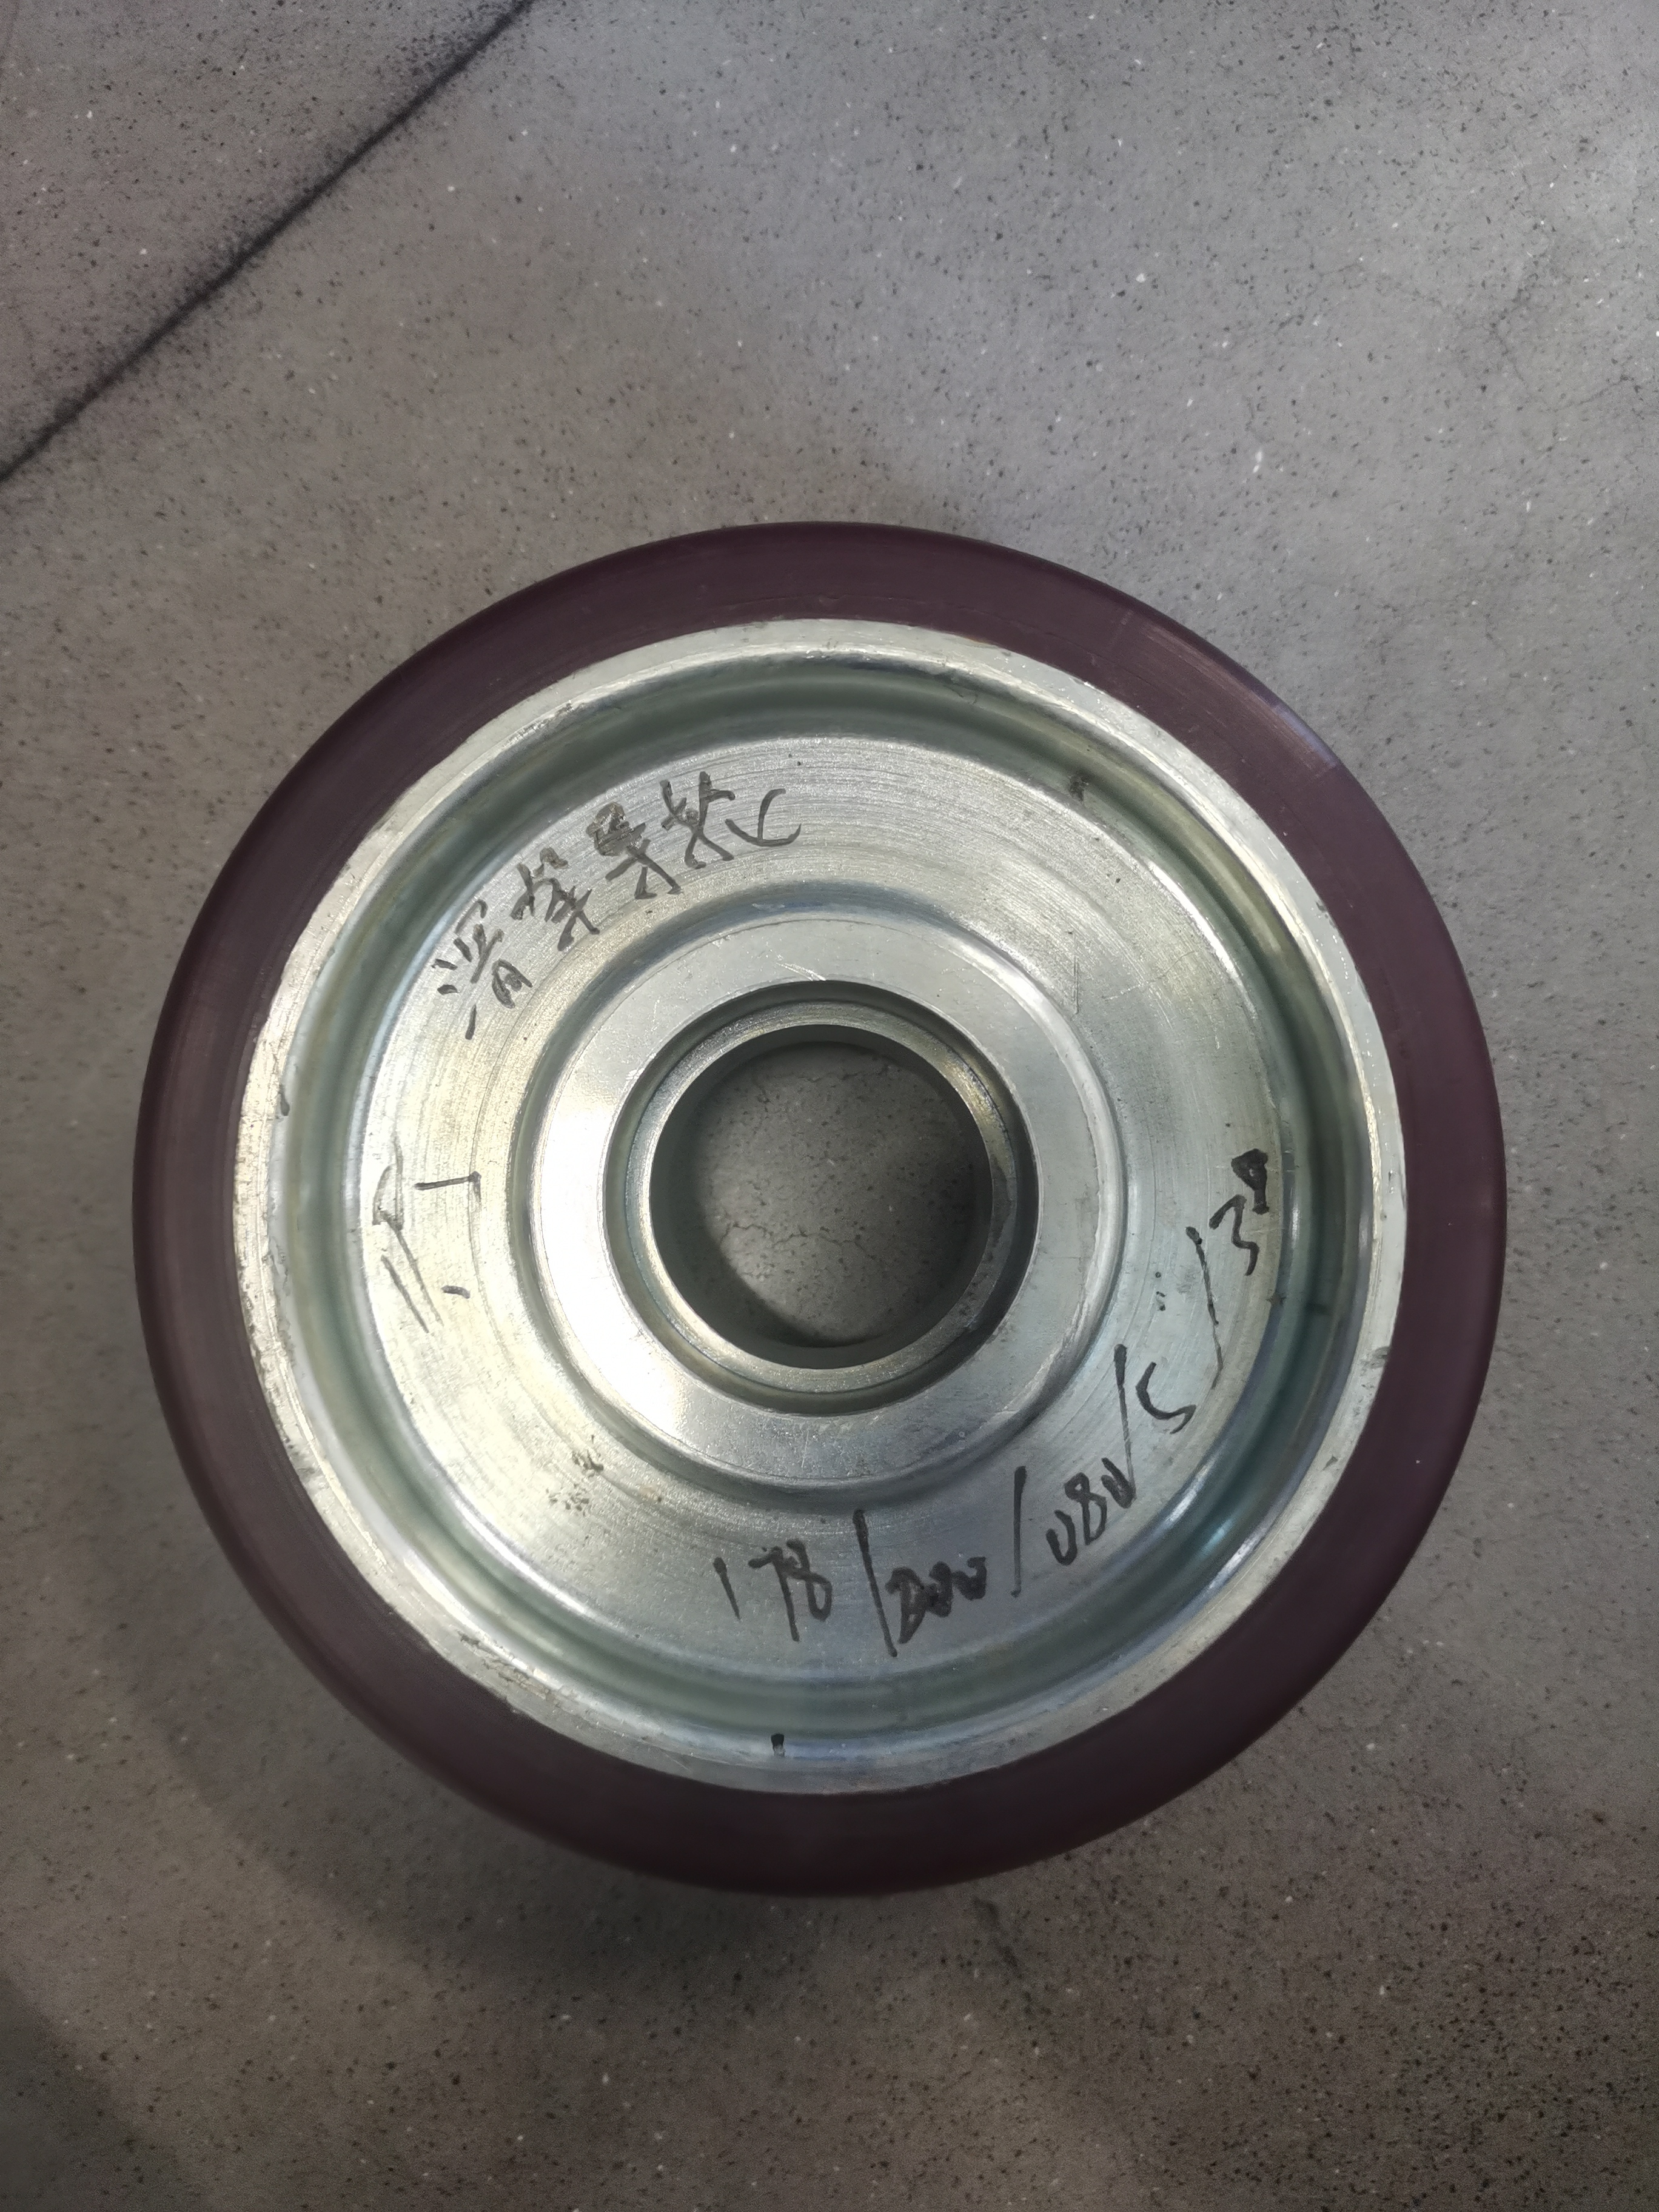good_wheel: (195, 451, 1488, 1892)
